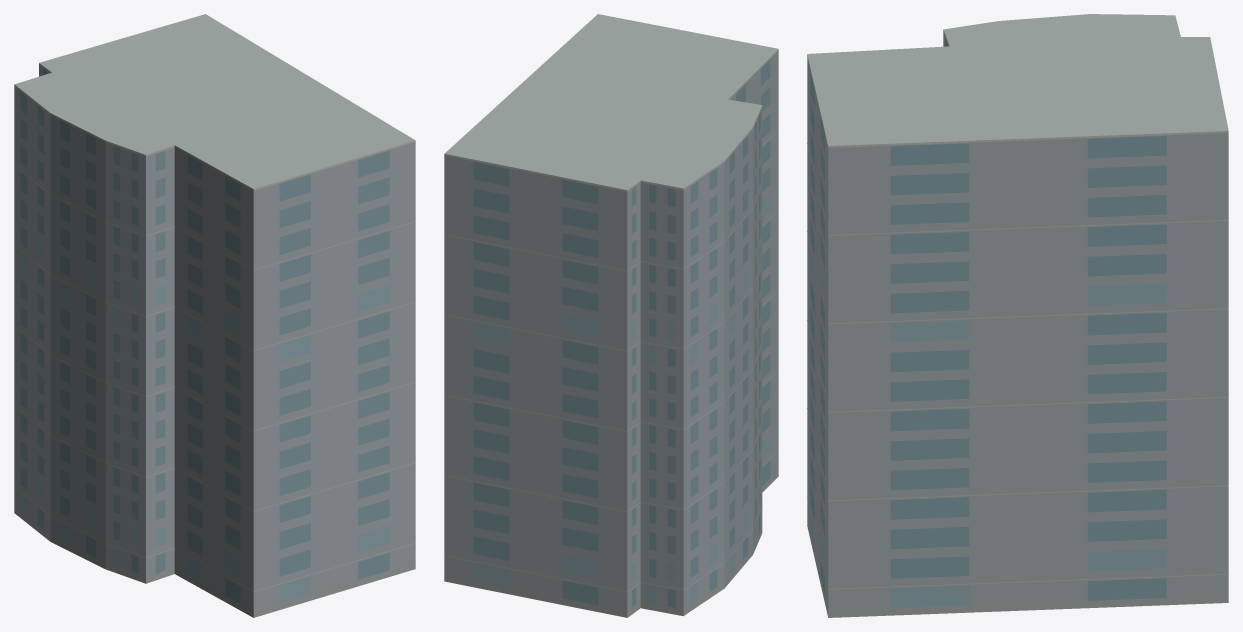
The model's file is residential-9347d2a9-ddfd-417b-a7be-50d987cd3b3d.glb.
3 views of the same model, side by side, from view 1: azimuth 30°, elevation 25°; view 2: azimuth 150°, elevation 25°; view 3: azimuth 270°, elevation 25° (orthographic). The views are drawn at different scales.
Parts seen in each view (by area): view 1: residential-9347d2a9-ddfd-417b-a7be-50d987cd3b3d.tmp; view 2: residential-9347d2a9-ddfd-417b-a7be-50d987cd3b3d.tmp; view 3: residential-9347d2a9-ddfd-417b-a7be-50d987cd3b3d.tmp.
Part boxes in pixels (x1,y1,x2,y2): residential-9347d2a9-ddfd-417b-a7be-50d987cd3b3d.tmp: (14, 14, 415, 617); residential-9347d2a9-ddfd-417b-a7be-50d987cd3b3d.tmp: (444, 14, 778, 617); residential-9347d2a9-ddfd-417b-a7be-50d987cd3b3d.tmp: (807, 14, 1228, 617).
Bounding box in the file's own units: 35.43 × 59 × 47.78.
